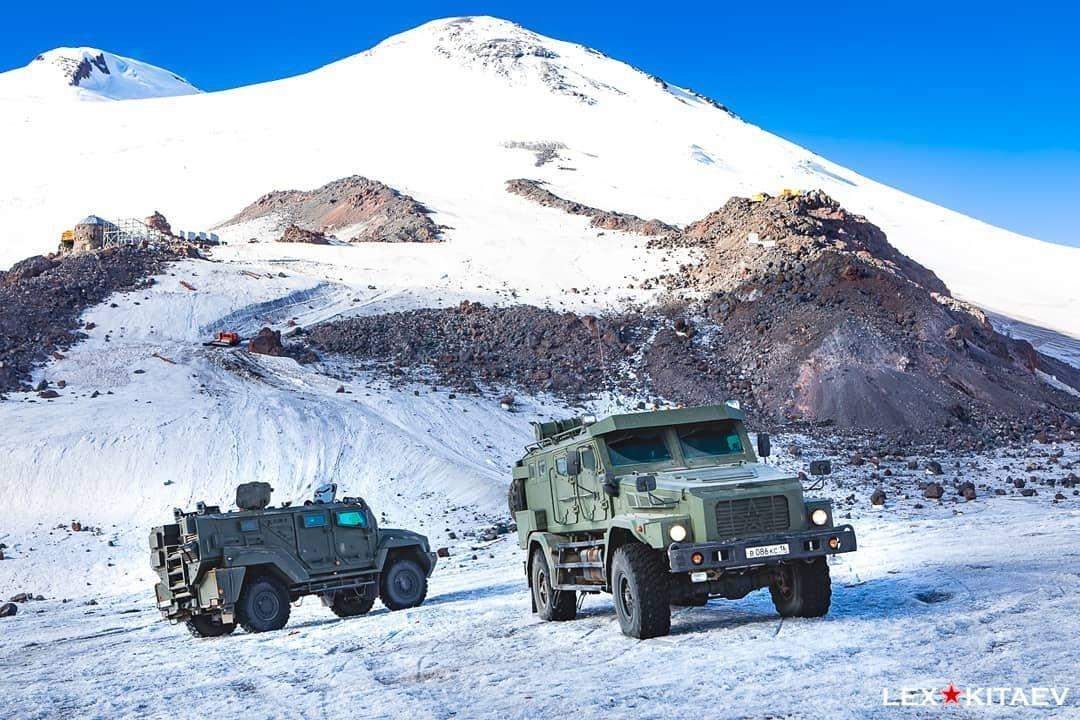truck: (508, 398, 857, 640), (150, 481, 438, 638)
